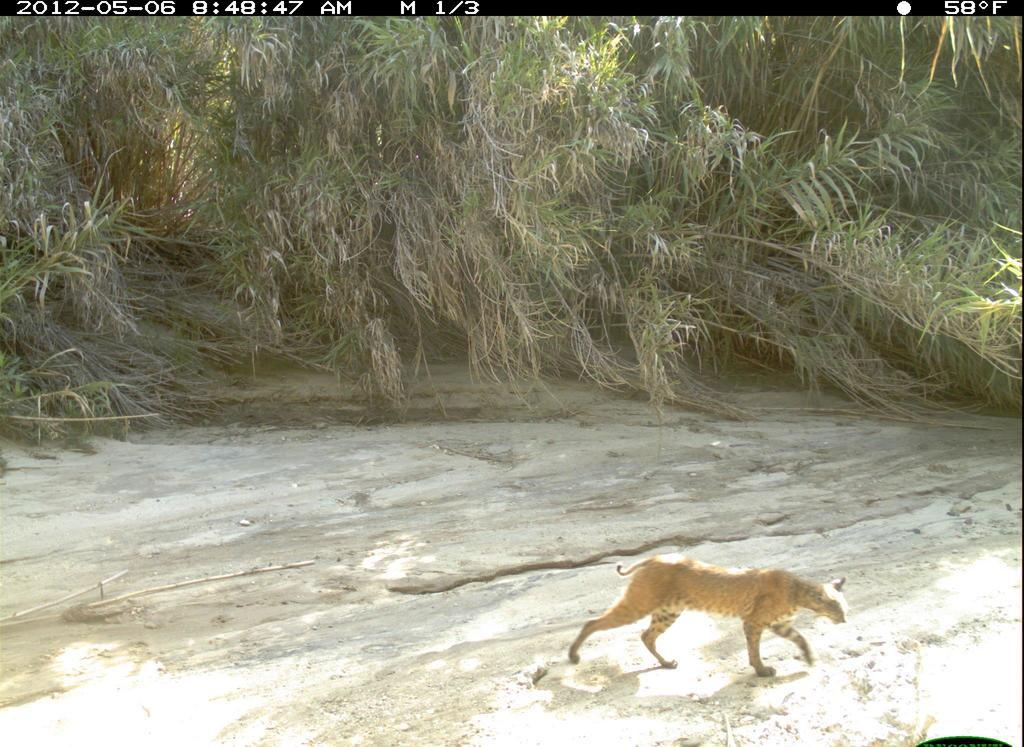bobcat: (553, 546, 858, 690)
